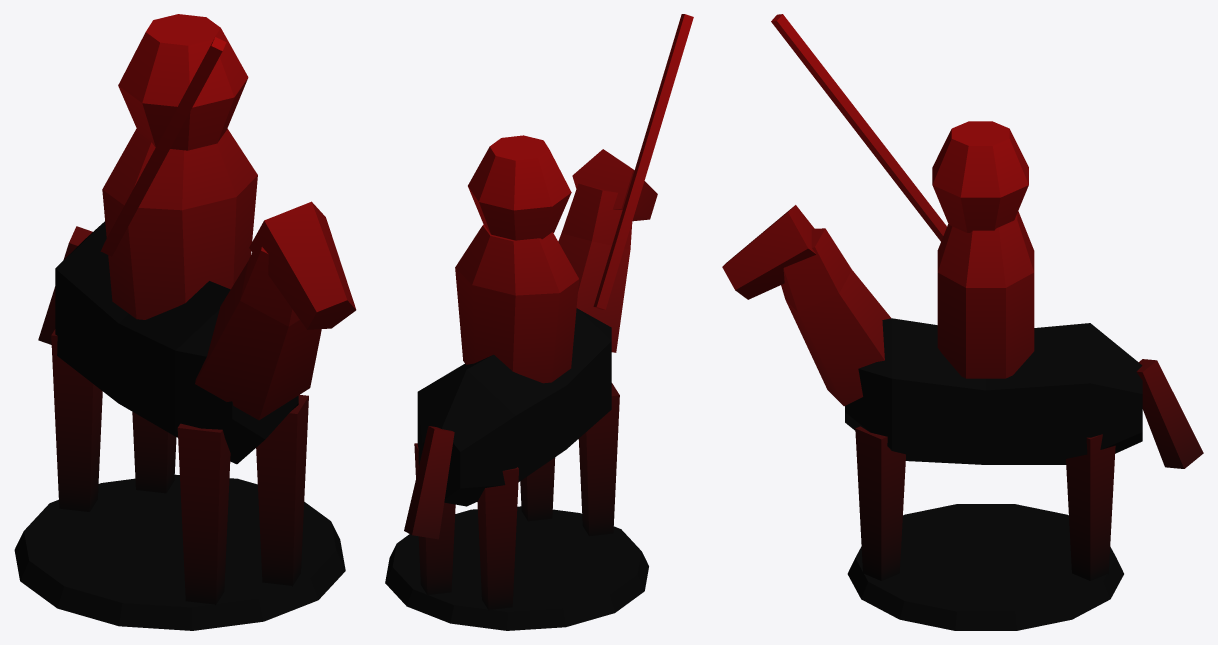
Rendered from ns-block-horseman.glb.
3 renders of one model, left to right at view 1: azimuth 30°, elevation 25°; view 2: azimuth 150°, elevation 25°; view 3: azimuth 270°, elevation 25°, orthographic. The views are drawn at different scales.
Visible parts, largest first — view 1: Ringed form, Sculpted silhouette, Ringed form.001, Tapered form.004, Ringed form.002, Tapered form.005, Tapered form.001, Tapered form, Tapered form.003, Tapered form.007, Tapered form.002, Tapered form.006; view 2: Sculpted silhouette, Ringed form, Ringed form.001, Ringed form.002, Tapered form.004, Tapered form.003, Tapered form.001, Tapered form.007, Tapered form.006, Tapered form.005, Tapered form.002, Tapered form; view 3: Sculpted silhouette, Ringed form, Ringed form.001, Tapered form.004, Ringed form.002, Tapered form, Tapered form.002, Tapered form.005, Tapered form.007, Tapered form.006.
Part boxes in pixels (x1,y1,x2,y2): Ringed form: (14, 474, 345, 630); Sculpted silhouette: (55, 221, 298, 464); Ringed form.001: (102, 128, 257, 319); Tapered form.004: (195, 247, 321, 420); Ringed form.002: (118, 14, 248, 150); Tapered form.005: (249, 201, 356, 329); Tapered form.001: (177, 423, 230, 605); Tapered form: (256, 395, 308, 586); Tapered form.003: (51, 329, 102, 511); Tapered form.007: (100, 37, 226, 256); Tapered form.002: (132, 412, 176, 493); Tapered form.006: (38, 226, 92, 344); Sculpted silhouette: (417, 308, 611, 506); Ringed form: (385, 506, 648, 630); Ringed form.001: (455, 224, 579, 383); Ringed form.002: (468, 135, 571, 240); Tapered form.004: (558, 183, 632, 352); Tapered form.003: (477, 467, 518, 610); Tapered form.001: (578, 383, 619, 536); Tapered form.007: (593, 14, 693, 309); Tapered form.006: (404, 426, 454, 539); Tapered form.005: (572, 149, 657, 221); Tapered form.002: (414, 443, 455, 595); Tapered form: (520, 457, 555, 521); Sculpted silhouette: (845, 318, 1142, 464); Ringed form: (847, 504, 1123, 630); Ringed form.001: (937, 211, 1034, 378); Tapered form.004: (781, 228, 890, 406); Ringed form.002: (932, 121, 1028, 232); Tapered form: (855, 426, 905, 580); Tapered form.002: (1066, 434, 1115, 580); Tapered form.005: (722, 205, 816, 299); Tapered form.007: (771, 14, 946, 241); Tapered form.006: (1136, 359, 1203, 468).
Bounding box in the file's own units: 0.5167 × 1.11 × 0.922.
